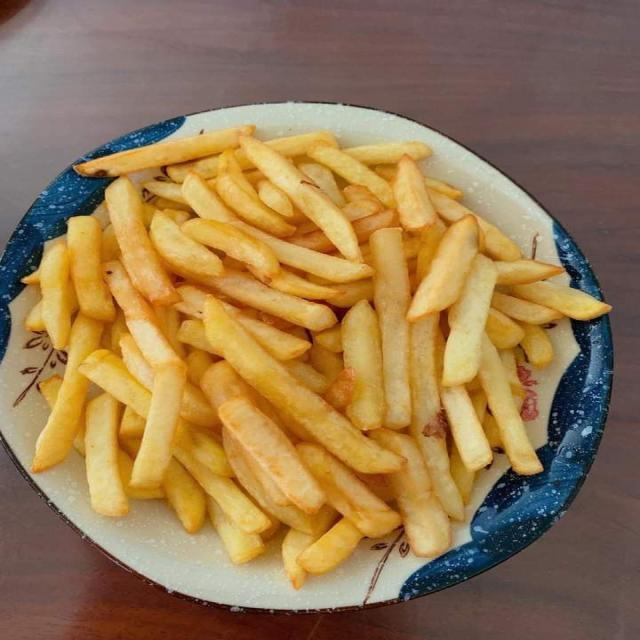potato fries: (23, 125, 609, 588), (205, 297, 402, 472), (240, 136, 360, 260), (219, 398, 325, 513), (409, 314, 463, 520), (32, 314, 102, 471), (372, 429, 450, 557), (224, 429, 318, 535), (296, 443, 400, 537), (74, 125, 255, 177), (105, 178, 178, 305), (479, 336, 542, 475), (175, 446, 271, 533), (234, 222, 373, 282), (370, 228, 411, 429), (203, 270, 336, 330), (104, 261, 179, 366), (408, 216, 478, 321), (442, 254, 496, 386), (131, 362, 185, 487), (429, 189, 521, 261), (181, 219, 279, 282), (342, 301, 385, 430), (307, 144, 394, 207), (85, 394, 128, 516), (216, 172, 295, 237), (223, 302, 310, 360), (67, 216, 114, 321), (79, 350, 151, 417), (150, 212, 223, 276), (441, 386, 492, 471), (208, 497, 264, 563), (296, 518, 362, 574), (512, 282, 611, 319), (392, 155, 436, 231), (40, 243, 71, 349), (162, 459, 206, 533), (176, 427, 232, 477), (182, 172, 236, 221), (117, 448, 164, 499), (492, 292, 562, 324), (269, 269, 340, 299), (282, 529, 317, 589), (298, 163, 345, 207), (343, 141, 431, 164), (219, 149, 258, 199), (416, 219, 446, 281), (265, 131, 336, 157), (496, 260, 564, 285), (155, 307, 185, 359), (450, 443, 475, 504), (486, 308, 524, 348), (285, 360, 329, 394), (520, 323, 553, 368), (178, 320, 217, 355), (324, 368, 355, 411), (257, 180, 293, 217), (310, 343, 343, 383), (331, 279, 374, 308), (143, 180, 188, 205), (105, 308, 128, 355), (185, 349, 214, 386), (342, 196, 384, 221), (290, 230, 335, 251), (424, 176, 463, 199), (38, 374, 63, 409), (483, 412, 504, 453), (119, 406, 145, 438), (343, 184, 382, 205), (314, 325, 343, 353), (153, 196, 194, 214), (24, 301, 46, 331), (73, 414, 85, 456), (21, 268, 40, 283)
